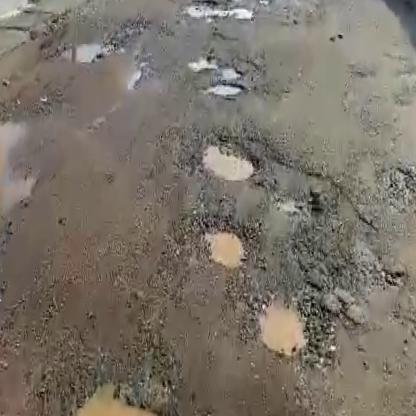pothole: (33, 373, 191, 416), (256, 290, 324, 359), (198, 134, 259, 186), (201, 221, 249, 272), (57, 30, 107, 64), (182, 0, 233, 17), (203, 81, 245, 101)
